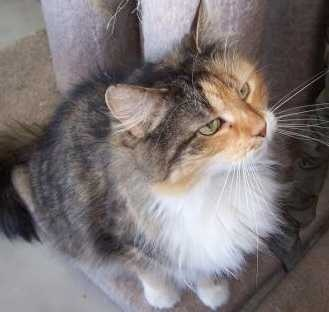Cat: (31, 0, 328, 309)
